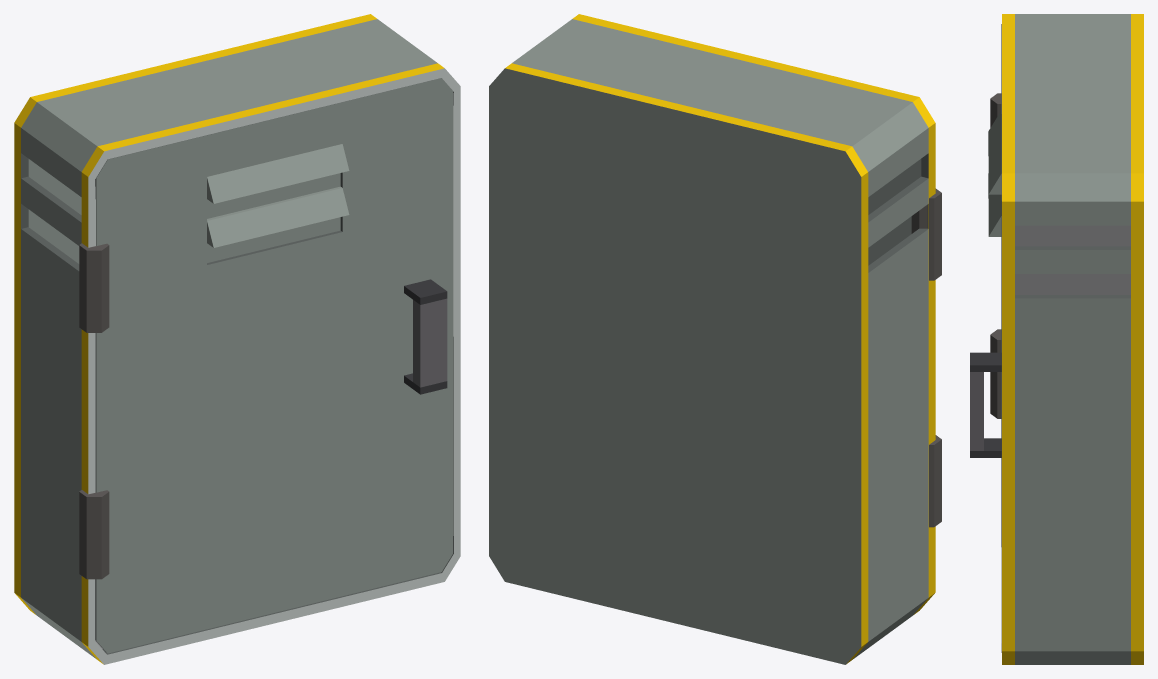
Rendered from cable-box.glb.
3 views of the same model, side by side, from view 1: azimuth 30°, elevation 25°; view 2: azimuth 150°, elevation 25°; view 3: azimuth 270°, elevation 25° (orthographic). The views are drawn at different scales.
Visible parts, largest first — view 1: Metalcase_cap, MetalCase_Base; view 2: MetalCase_Base, Metalcase_cap; view 3: MetalCase_Base, Metalcase_cap.
Boxes of the visible parts, <box> form: Metalcase_cap: <box>79,78,453,653</box>; MetalCase_Base: <box>14,14,460,664</box>; MetalCase_Base: <box>489,14,935,664</box>; Metalcase_cap: <box>868,159,941,527</box>; MetalCase_Base: <box>1002,14,1143,664</box>; Metalcase_cap: <box>970,24,1001,652</box>.
Size of what is drawn, in the model's own units: 0.8588 by 1.12 by 0.359.
Materials: 1 (1 with a texture image).
